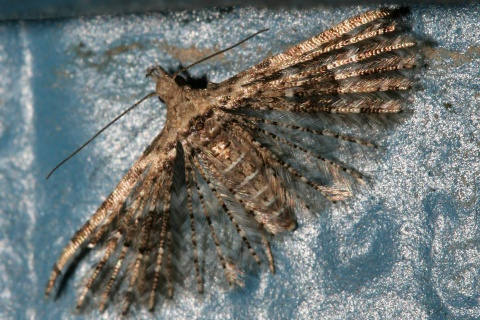Alucitidae: (40, 1, 429, 311)
moth: (42, 2, 431, 313)
